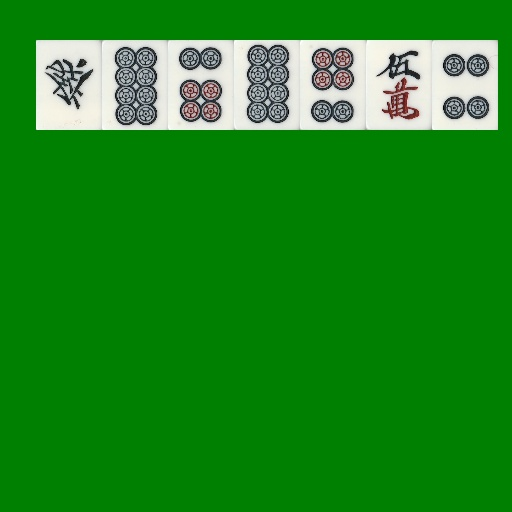4p: (432, 40, 498, 130)
5m: (366, 40, 432, 130)
6p: (168, 40, 234, 130), (300, 40, 366, 130)
8p: (102, 40, 168, 130), (234, 40, 300, 130)
hatsu: (36, 40, 102, 130)
